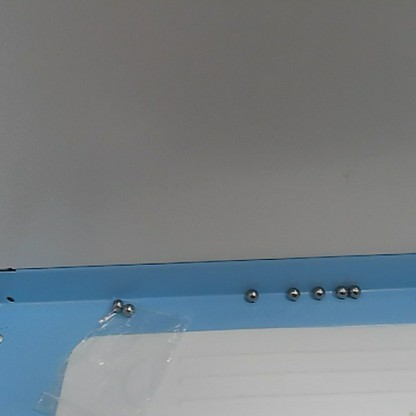ironball: (240, 285, 260, 305), (284, 283, 303, 303), (308, 282, 327, 300), (345, 282, 363, 300), (121, 303, 140, 318), (108, 297, 126, 311), (334, 284, 347, 299)
